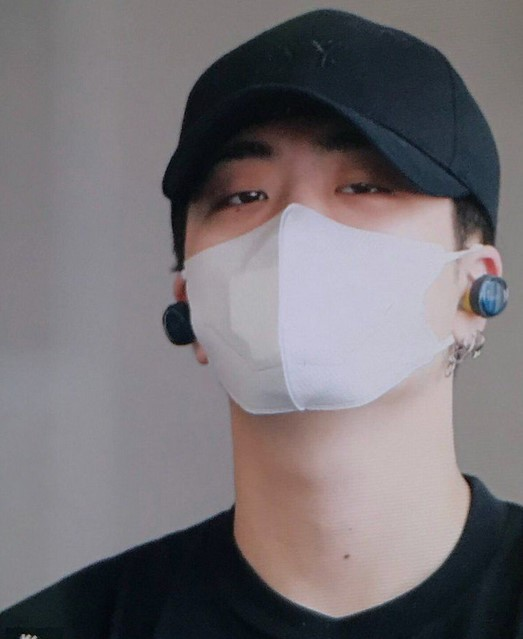face_with_mask: (164, 7, 505, 417)
